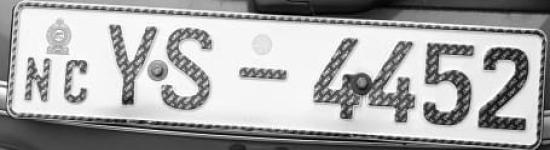-: (236, 64, 290, 89)
2: (476, 43, 534, 136)
4: (367, 30, 420, 130), (310, 29, 366, 123)
5: (422, 35, 476, 135)
C: (60, 57, 94, 108)
N: (19, 54, 54, 107)
S: (161, 26, 227, 116)
Y: (106, 20, 160, 110)
